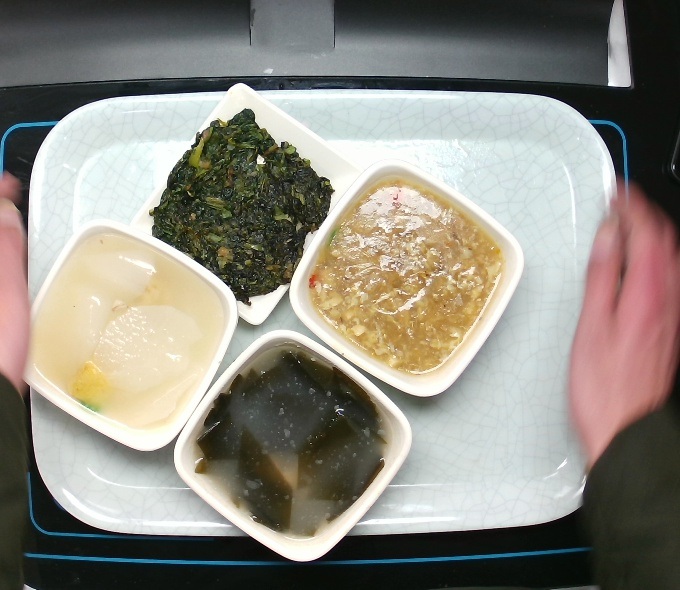wcq-HaiDaiPaiGuTang: (192, 347, 393, 547)
wcq-LuoBoYouPaoTang: (34, 227, 231, 427)
wcq-QinCaiBing: (147, 107, 337, 298)
wcq-SuanLaGeng: (306, 180, 505, 372)
